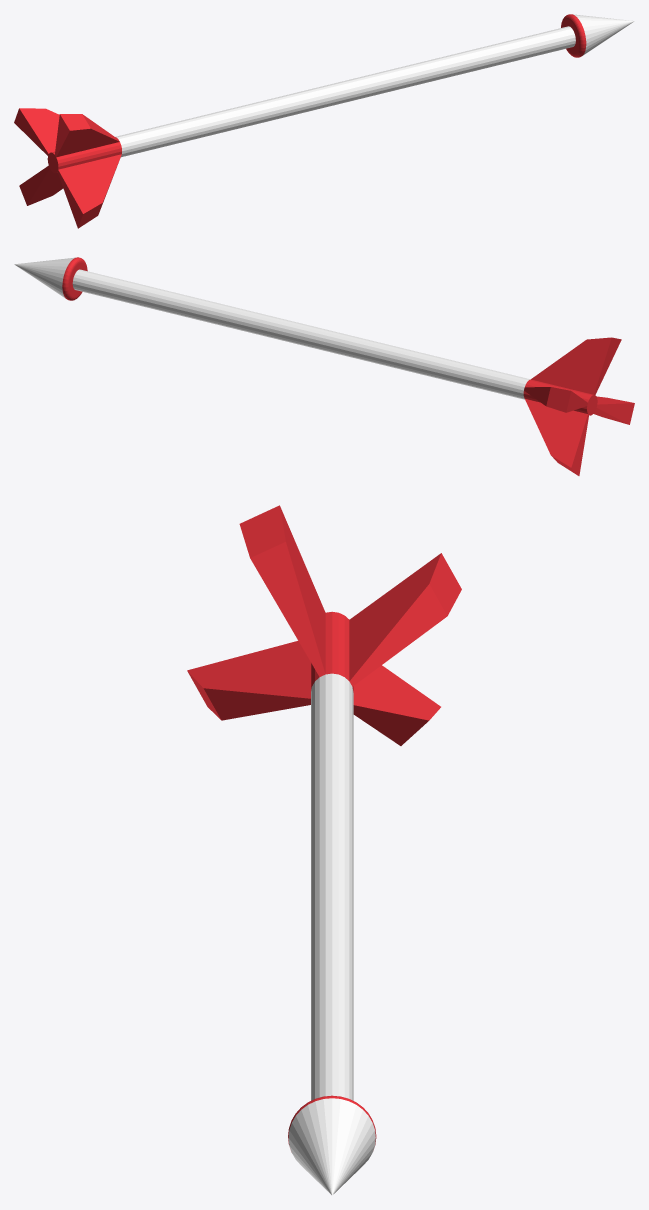
The model's file is arrow.glb.
3 views of the same model, one above another, from view 1: azimuth 30°, elevation 25°; view 2: azimuth 150°, elevation 25°; view 3: azimuth 270°, elevation 25° (orthographic). The views are drawn at different scales.
Visible parts, largest first — view 1: arew; view 2: arew; view 3: arew.
Part boxes in pixels (x1,y1,x2,y2): arew: [14, 14, 634, 228]; arew: [14, 257, 634, 475]; arew: [187, 505, 461, 1195].
Bounding box in the file's own units: 1.16 × 0.2185 × 0.2361.
